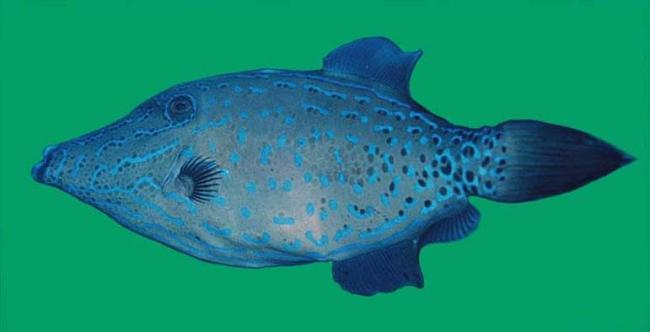fish: (32, 35, 637, 295)
